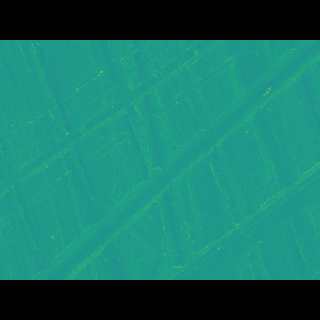Loch: (28, 69, 320, 249), (0, 69, 228, 191), (166, 163, 320, 250)
